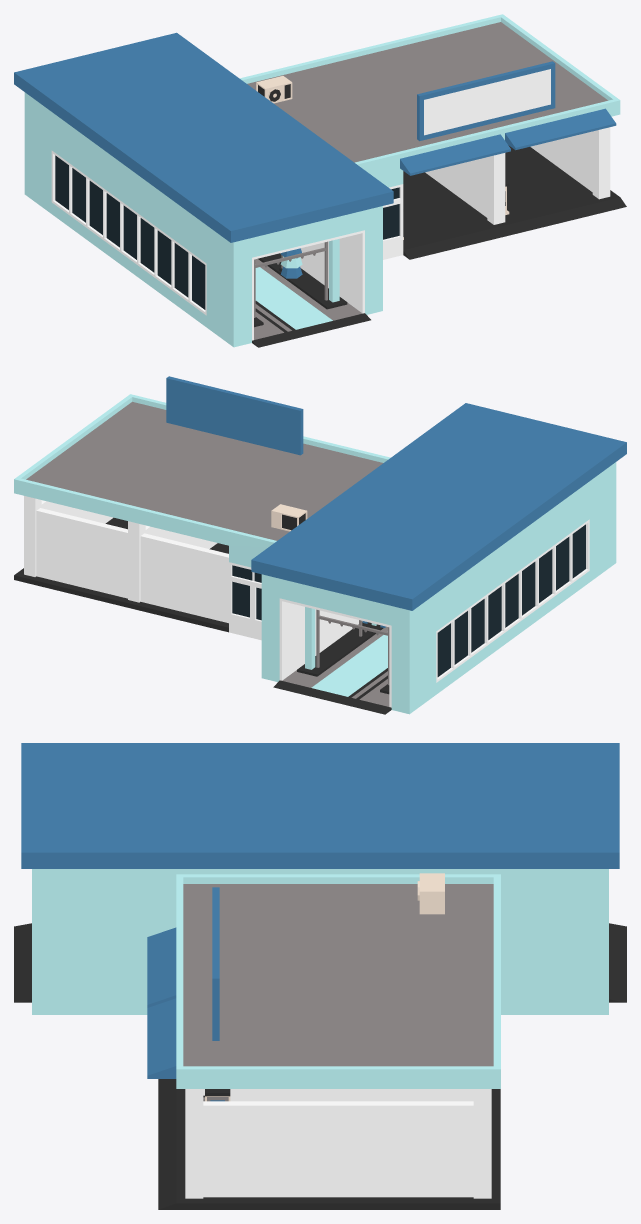
File: building-carwash.glb
3 views of the same model, one above another, from view 1: azimuth 30°, elevation 25°; view 2: azimuth 150°, elevation 25°; view 3: azimuth 270°, elevation 25° (orthographic). The views are drawn at different scales.
Visible parts, largest first — view 1: building-carwash; view 2: building-carwash; view 3: building-carwash.
Part boxes in pixels (x1,y1,x2,y2): building-carwash: [14, 14, 626, 347]; building-carwash: [14, 376, 626, 714]; building-carwash: [14, 743, 626, 1209].
Bounding box in the file's own units: 19.7 × 6 × 17.
Materials: 1 (1 with a texture image).
